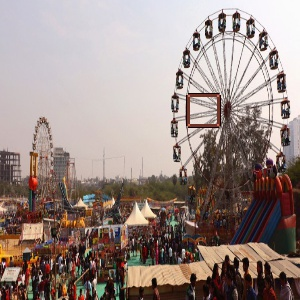square: (186, 92, 221, 127)
